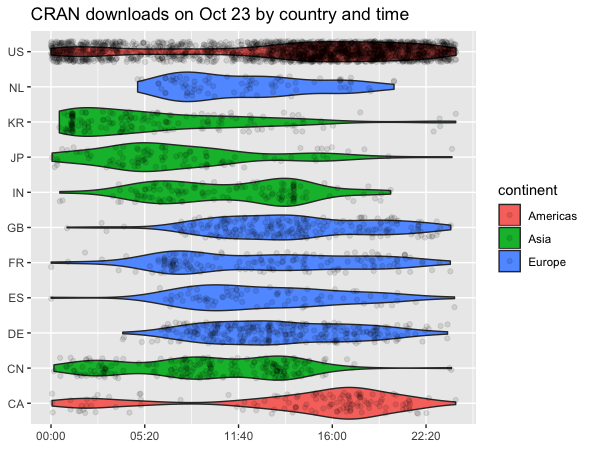

What the dashboard file says about the page in this screenshot:
{"tool":"tableau","page":{"name":"Dashboard 2","canvas":[1000,1000],"units":"permille","ordinal":1},"visuals":[{"type":"worksheet","title":"Split","mark":"Circle","rows":["Ascendas_Building","lat"],"cols":["lon"],"box":[4.7,8.5,897,983]},{"type":"filter","title":"Split","param":"[federated.1927uhd1qy7aqd1f6aa2719t1xgz].[none:lease:nk]","box":[901.7,8.5,93.6,195.1]},{"type":"legend","title":"Split","param":"[federated.1927uhd1qy7aqd1f6aa2719t1xgz].[none:Property Type:nk]","box":[901.7,203.6,93.6,133.6]},{"type":"legend","title":"Split","param":"[federated.1927uhd1qy7aqd1f6aa2719t1xgz].[none:psf:qk]","box":[901.7,337.2,93.6,133.6]}]}

Visuals, with their boxes on the dashboard's canvas, which has no fixed pixel size, in thousandths of its width and height (x1, y1, x2, y2). These are canvas units, not pixel positions in the 592x450 screenshot, which may show the page scaled, cropped or inside an application window:
"Split" worksheet (Circle marks): {"x1": 5, "y1": 8, "x2": 902, "y2": 992}
"Split" filter: {"x1": 902, "y1": 8, "x2": 995, "y2": 204}
"Split" legend: {"x1": 902, "y1": 204, "x2": 995, "y2": 337}
"Split" legend: {"x1": 902, "y1": 337, "x2": 995, "y2": 471}
